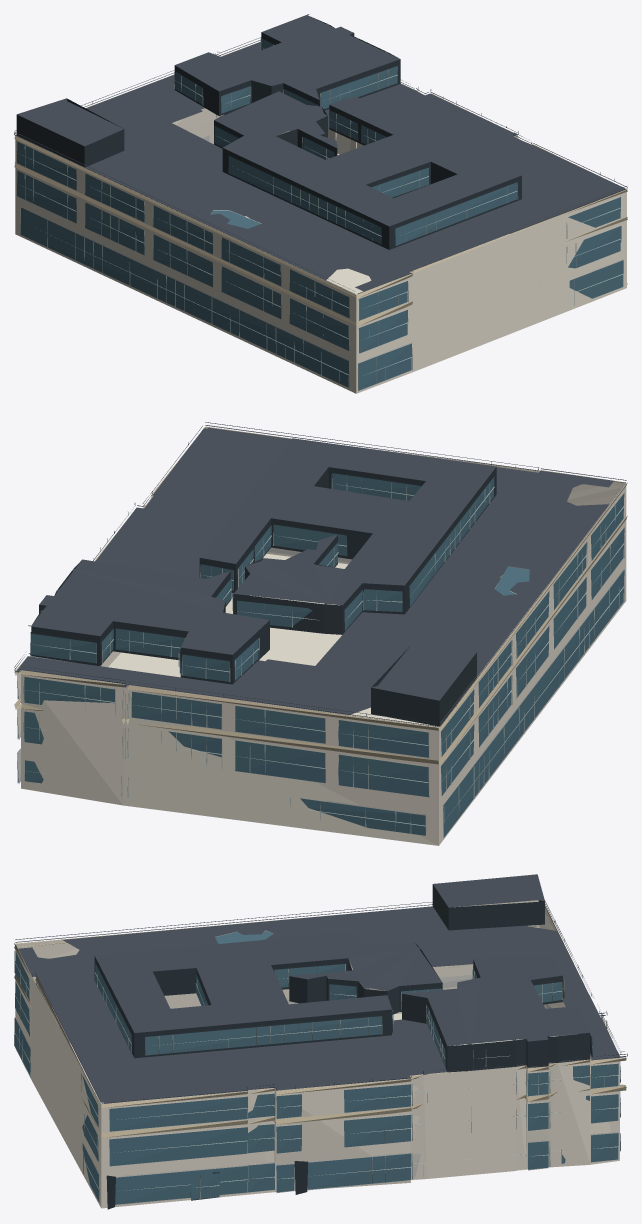
File: beta-boulders.lod1.glb
3 renders of one model, top to bottom at view 1: azimuth 30°, elevation 25°; view 2: azimuth 150°, elevation 25°; view 3: azimuth 270°, elevation 25°, orthographic. The views are drawn at different scales.
Visible parts, largest first — view 1: beta-boulders; view 2: beta-boulders; view 3: beta-boulders.
Part boxes in pixels (x1=…): beta-boulders: x1=14, y1=14, x2=627, y2=393; beta-boulders: x1=14, y1=422, x2=627, y2=845; beta-boulders: x1=14, y1=874, x2=627, y2=1209.
Bounding box in the file's own units: 64.92 × 18.88 × 80.25.
